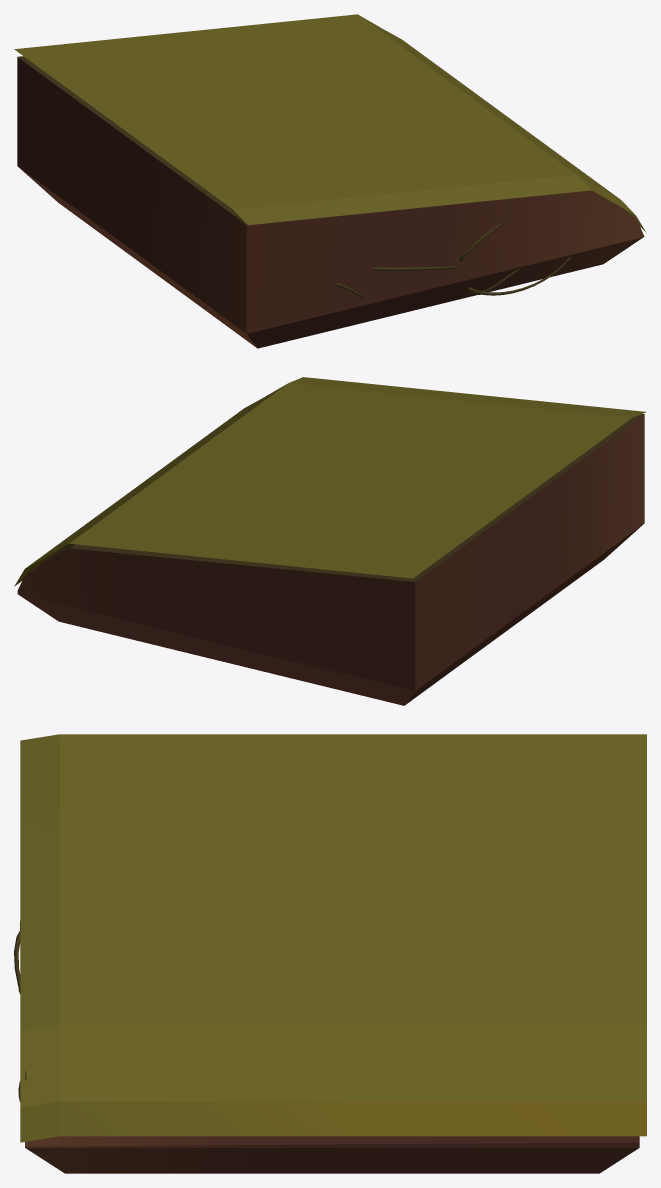
File: zone 2 platform3.fbx
3 views of the same model, one above another, from view 1: azimuth 30°, elevation 25°; view 2: azimuth 150°, elevation 25°; view 3: azimuth 270°, elevation 25° (orthographic). The views are drawn at different scales.
Parts seen in each view (by area): view 1: Cube.012; view 2: Cube.012; view 3: Cube.012.
Boxes of the visible parts, bbox=[...] form: Cube.012: bbox=[14, 14, 645, 348]; Cube.012: bbox=[14, 377, 645, 705]; Cube.012: bbox=[14, 734, 646, 1173].
Bounding box in the file's own units: 1055 × 371 × 1083.
